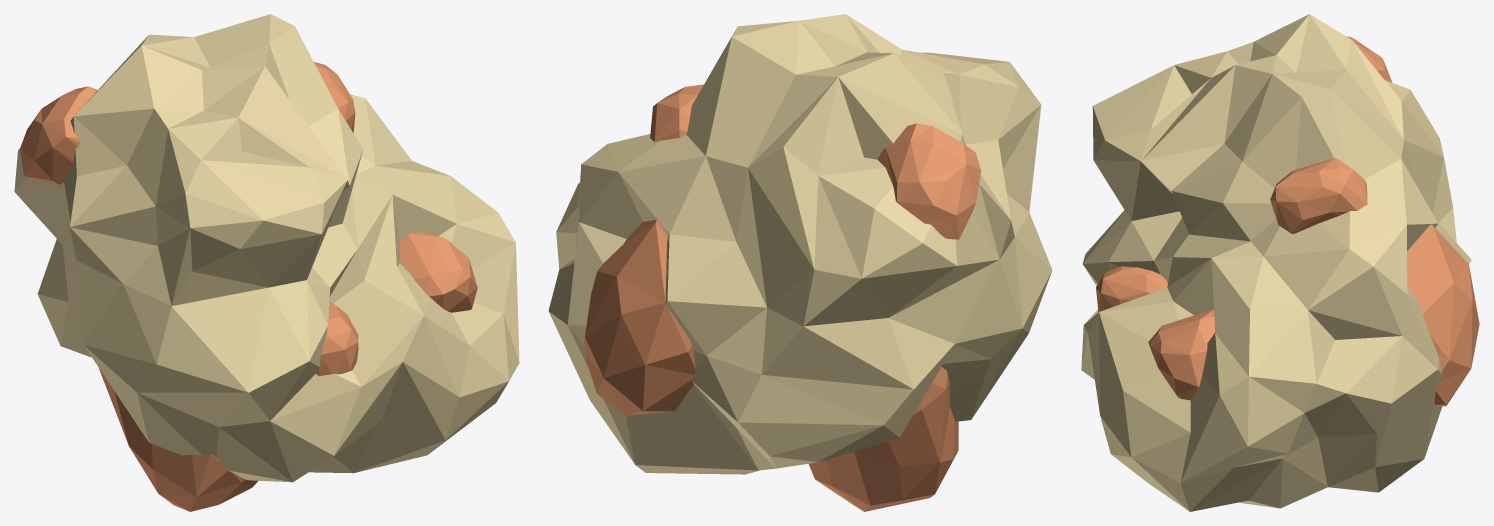
Rendered from StoneOre (9).fbx.
The picture shows the model from 3 angles, left to right: view 1: azimuth 30°, elevation 25°; view 2: azimuth 150°, elevation 25°; view 3: azimuth 270°, elevation 25°; orthographic projection. The views are drawn at different scales.
Parts seen in each view (by area): view 1: Asteroid296; view 2: Asteroid296; view 3: Asteroid296.
Boxes of the visible parts, left/top/right/bottom form: Asteroid296: left=14, top=14, right=519, bottom=511; Asteroid296: left=548, top=14, right=1052, bottom=511; Asteroid296: left=1081, top=14, right=1479, bottom=511.
Bounding box in the file's own units: 392 × 389 × 330.
